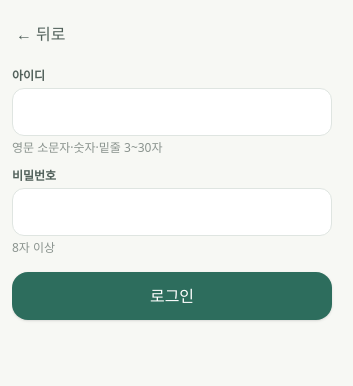
Test: 로그인 실패 메시지를 표시한다
Type "visa_bugi" into the field labelled "아이디" at (172, 112), box x1=12 y1=88 x2=332 y2=136
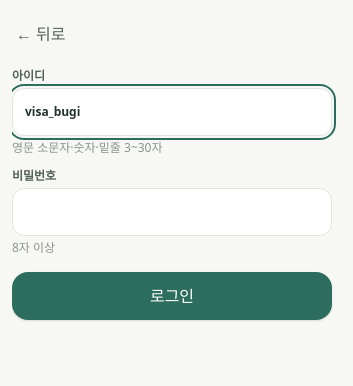
Type "wrongpass" into the password field labelled "비밀번호" at (172, 212), box x1=12 y1=188 x2=332 y2=236
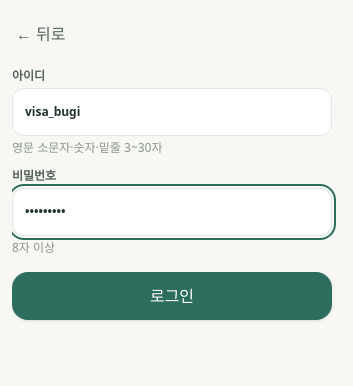
Click the button "로그인" at (172, 296), box x1=12 y1=272 x2=332 y2=320
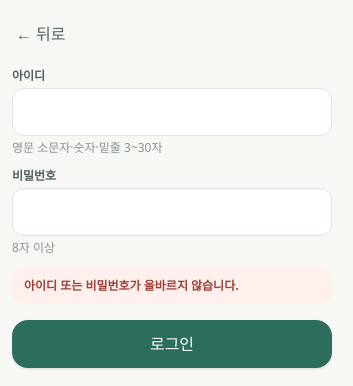
Now the message reads "아이디 또는 비밀번호가 올바르지 않습니다.", box x1=24 y1=277 x2=239 y2=294
